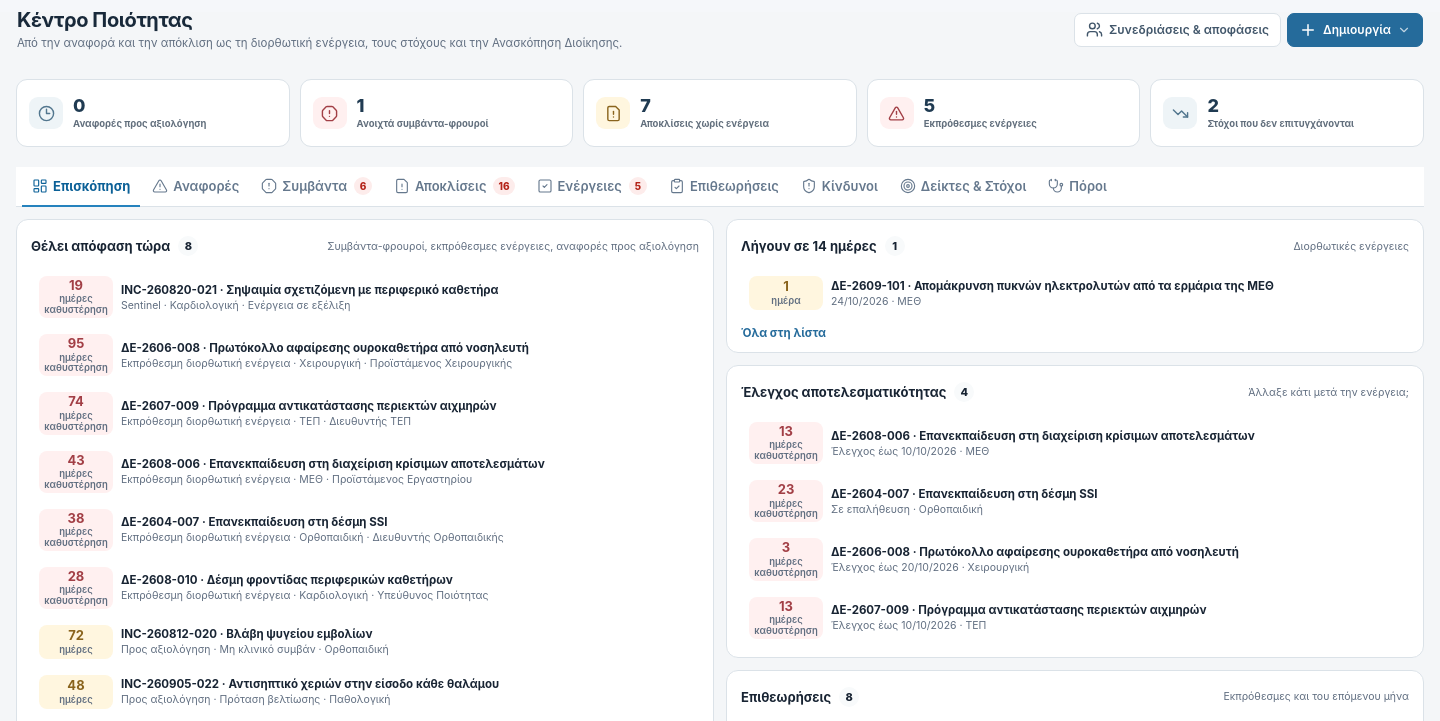
it: risk assessment screens › lists the assessments in the Quality Center tab
Click the tab "Κίνδυνοι".
click(839, 187)  # box [791,167,888,207]
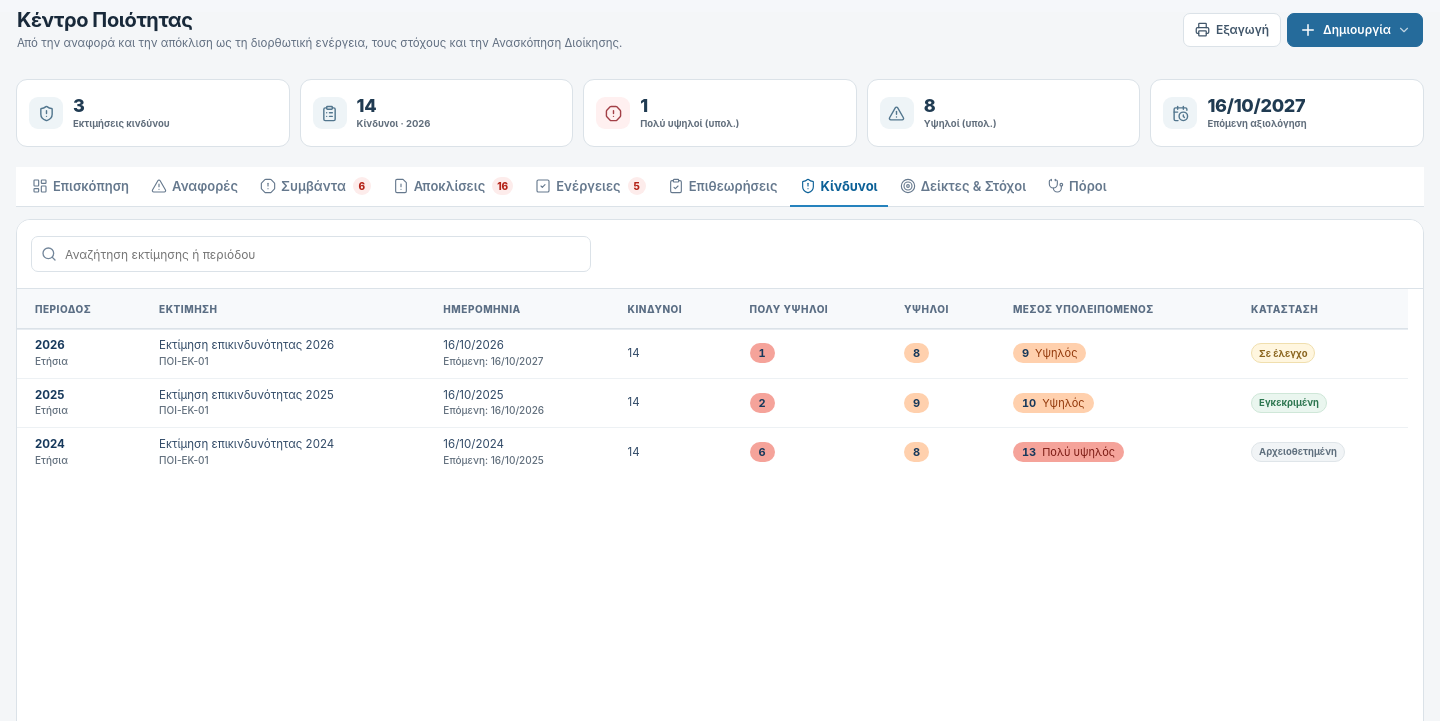
# New assessment and Excel import live in the page's «Create» menu, as in every tab.
Click the button "Δημιουργία".
click(1355, 30)  # box [1287,12,1423,46]
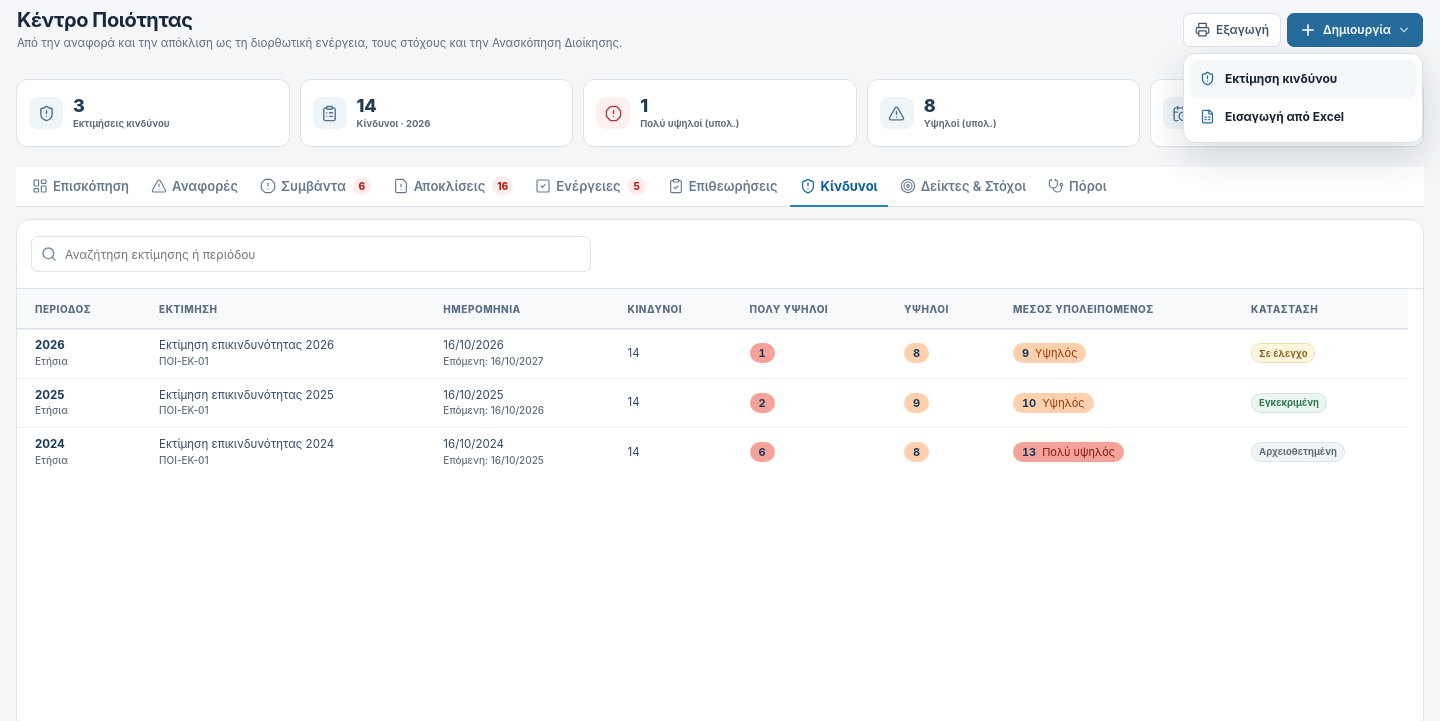
Now the menu item "Εκτίμηση κινδύνου" is shown, box [1190,60,1416,98]
Now the menu item "Εισαγωγή από Excel" is shown, box [1190,98,1416,136]
